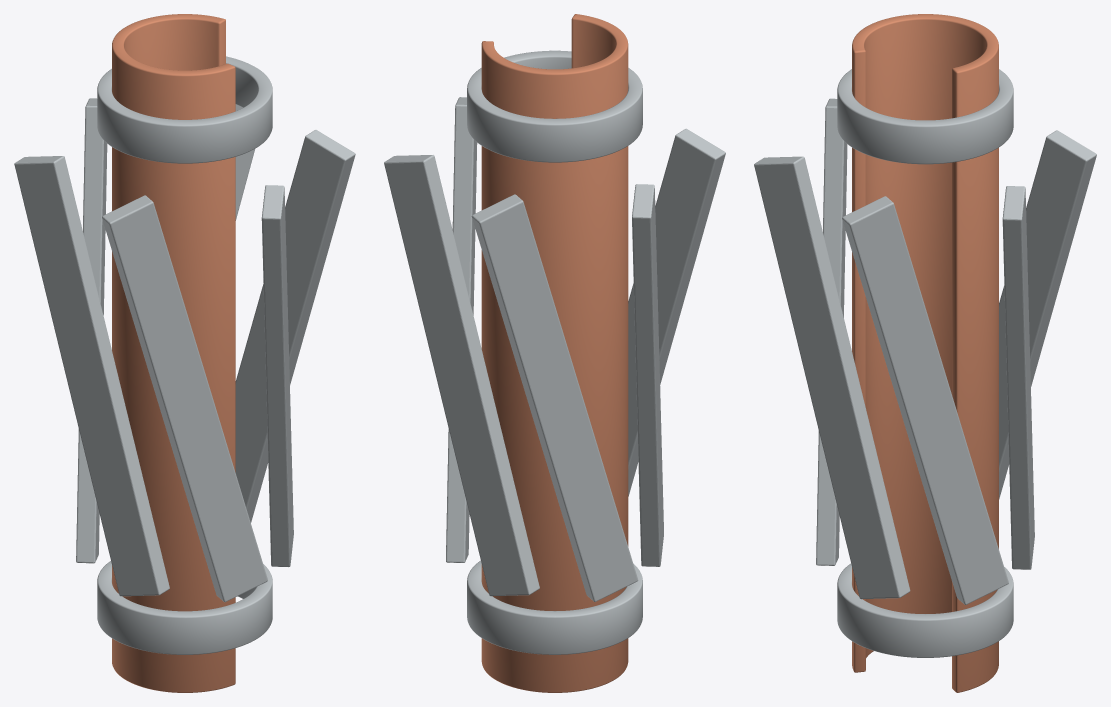
Rendered from rigid-centralizer.glb.
3 views of the same model, side by side, from view 1: azimuth 30°, elevation 25°; view 2: azimuth 150°, elevation 25°; view 3: azimuth 270°, elevation 25° (orthographic).
Parts seen in each view (by area): view 1: Casing joint, Spiral blade 3, Spiral blade 4, Spiral blade 0, Rigid top ring, Spiral blade 5, Rigid bottom ring, Spiral blade 2, Spiral blade 1; view 2: Casing joint, Spiral blade 1, Spiral blade 2, Spiral blade 4, Rigid top ring, Spiral blade 3, Rigid bottom ring, Spiral blade 0; view 3: Casing joint, Spiral blade 5, Spiral blade 0, Spiral blade 2, Spiral blade 1, Rigid top ring, Rigid bottom ring, Spiral blade 4.
Part boxes in pixels (box(x1,y1,x2,y2)): Casing joint: box(112, 14, 235, 692); Spiral blade 3: box(14, 156, 169, 596); Spiral blade 4: box(102, 195, 267, 602); Spiral blade 0: box(235, 130, 355, 522); Rigid top ring: box(97, 56, 272, 163); Spiral blade 5: box(261, 185, 293, 567); Rigid bottom ring: box(97, 561, 272, 654); Spiral blade 2: box(76, 98, 107, 563); Spiral blade 1: box(235, 104, 254, 220); Casing joint: box(481, 14, 628, 692); Spiral blade 1: box(384, 155, 539, 596); Spiral blade 2: box(471, 194, 638, 601); Spiral blade 4: box(628, 128, 725, 496); Rigid top ring: box(467, 50, 642, 162); Spiral blade 3: box(632, 184, 663, 566); Rigid bottom ring: box(467, 560, 642, 654); Spiral blade 0: box(446, 97, 477, 562); Casing joint: box(852, 14, 998, 692); Spiral blade 5: box(754, 156, 910, 599); Spiral blade 0: box(842, 196, 1008, 604); Spiral blade 2: box(999, 130, 1096, 499); Spiral blade 1: box(1002, 186, 1034, 569); Rigid top ring: box(837, 69, 1013, 164); Rigid bottom ring: box(837, 563, 1013, 657); Spiral blade 4: box(816, 98, 847, 565).
Bounding box in the file's own units: 2.52 × 5.6 × 2.8.
